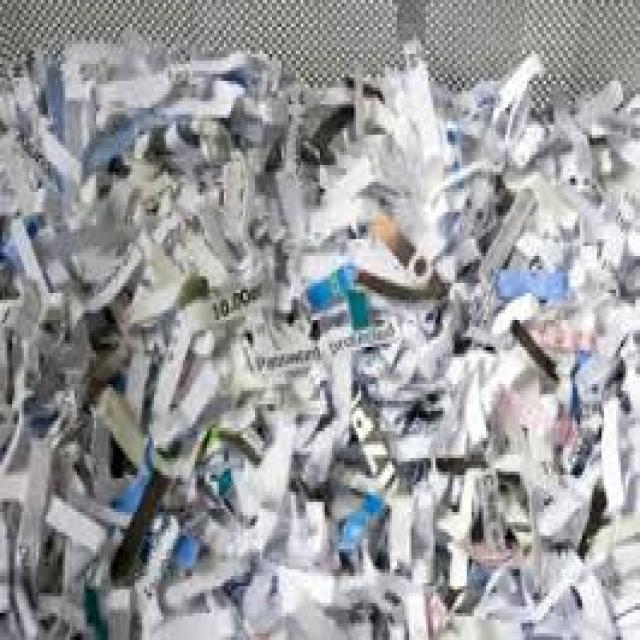paper: (0, 27, 638, 637)
